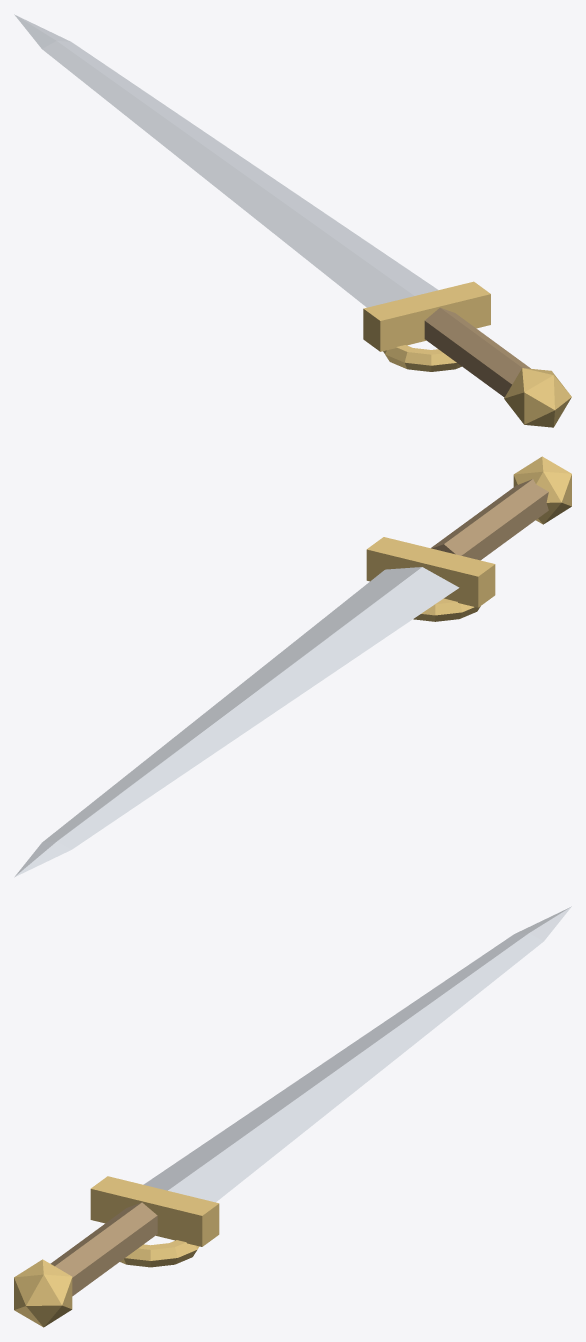
Rendered from SwordDuelist.fbx.
3 views of the same model, one above another, from view 1: azimuth 30°, elevation 25°; view 2: azimuth 150°, elevation 25°; view 3: azimuth 330°, elevation 25° (orthographic).
Parts seen in each view (by area): view 1: fam_steel, fam_gold, fam_leather; view 2: fam_steel, fam_gold, fam_leather; view 3: fam_steel, fam_gold, fam_leather.
Boxes of the visible parts, x1=… form: fam_steel: x1=14, y1=14, x2=438, y2=307; fam_gold: x1=363, y1=281, x2=571, y2=427; fam_leather: x1=424, y1=307, x2=530, y2=397; fam_steel: x1=14, y1=567, x2=459, y2=877; fam_gold: x1=366, y1=456, x2=571, y2=621; fam_leather: x1=431, y1=479, x2=548, y2=560; fam_steel: x1=143, y1=906, x2=571, y2=1202; fam_gold: x1=14, y1=1176, x2=219, y2=1327; fam_leather: x1=50, y1=1202, x2=157, y2=1296.
Bounding box in the file's own units: 0.525 × 0.2635 × 4.45.
